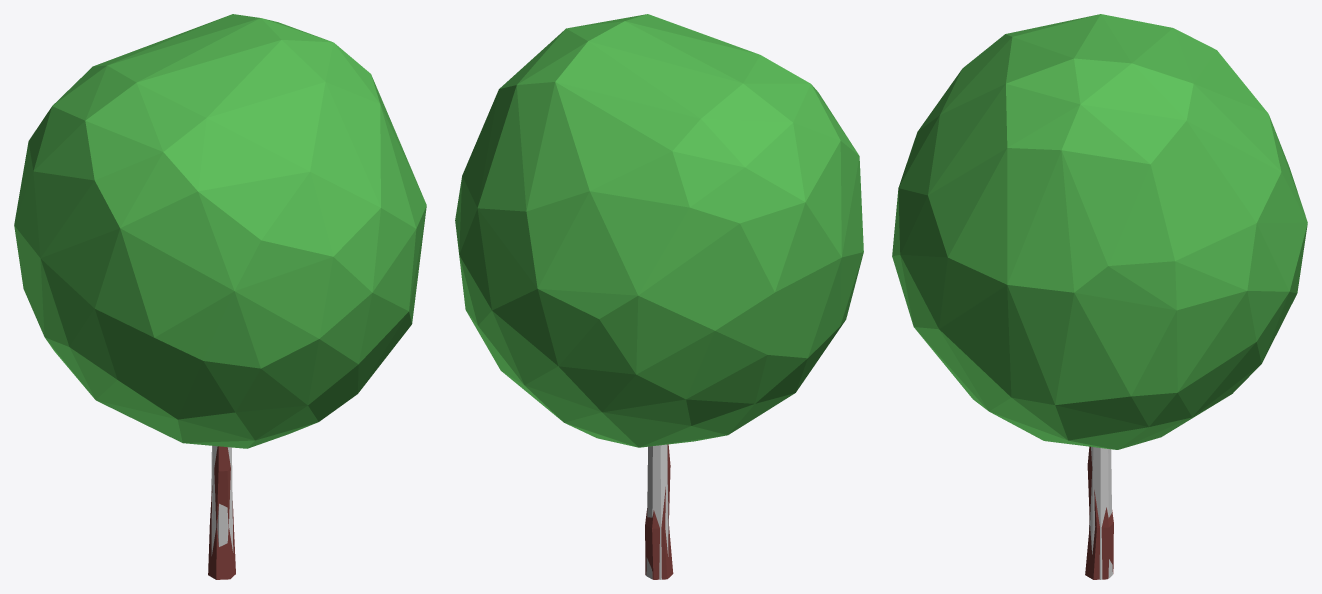
The model's file is floresta_tree_park_large_green.glb.
The picture shows the model from 3 angles, left to right: view 1: azimuth 30°, elevation 25°; view 2: azimuth 150°, elevation 25°; view 3: azimuth 270°, elevation 25°; orthographic projection.
Parts seen in each view (by area): view 1: Park tree big green f, Colisao; view 2: Park tree big green f, Colisao; view 3: Park tree big green f, Colisao.
Boxes of the visible parts, <box> form: Park tree big green f: <box>14,14,426,579</box>; Colisao: <box>211,445,233,555</box>; Park tree big green f: <box>455,14,863,579</box>; Colisao: <box>646,444,668,579</box>; Park tree big green f: <box>892,14,1307,579</box>; Colisao: <box>1089,447,1112,579</box>.
Size of the model in its own units: 11.56 by 16.41 by 11.47.
